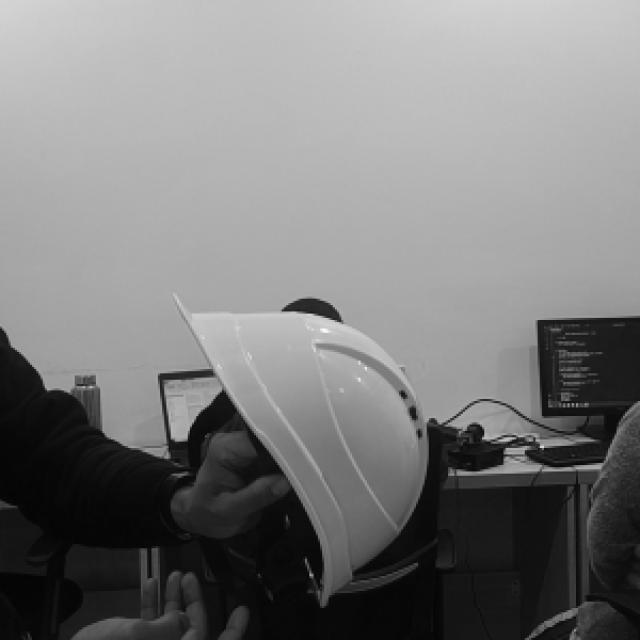safety_helmet: (172, 292, 430, 606)
